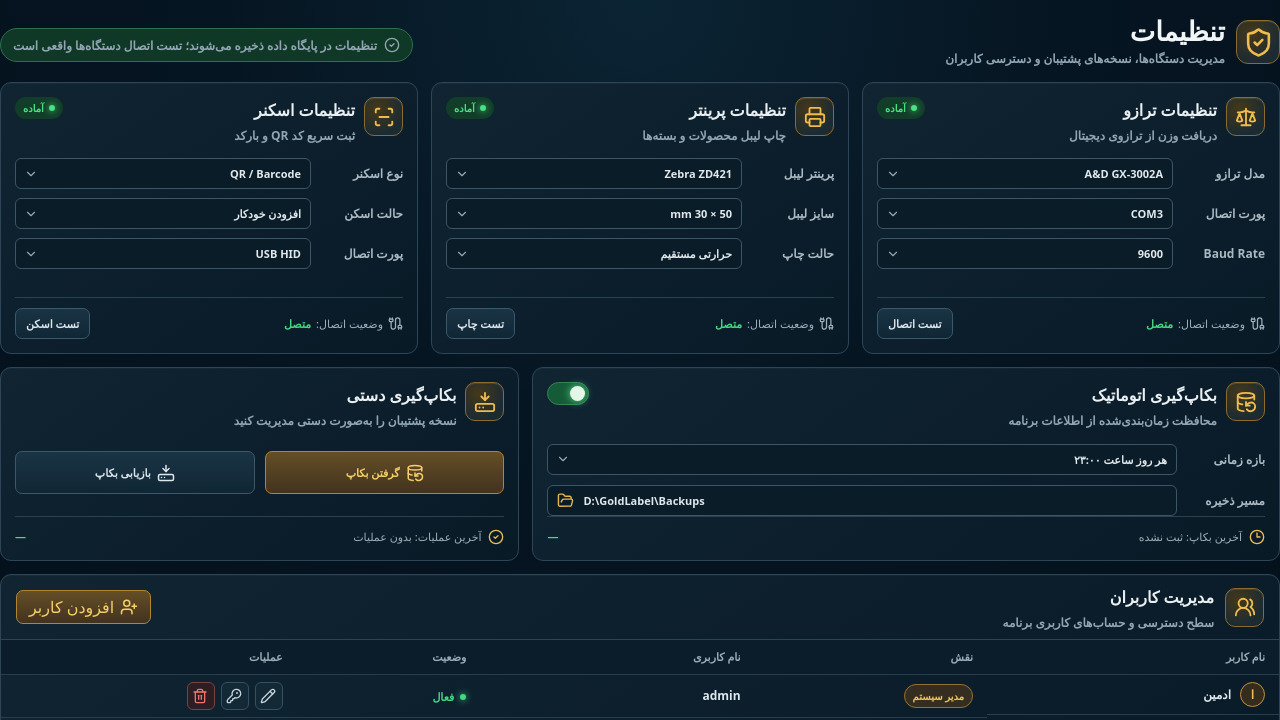
Test case: settings user management persistence › rejects a duplicate username taken by another user
Expected: the text "ادمین" is shown, [1203, 686, 1231, 702]
Click the button "افزودن کاربر".
click(84, 607)  # box [16, 590, 151, 624]
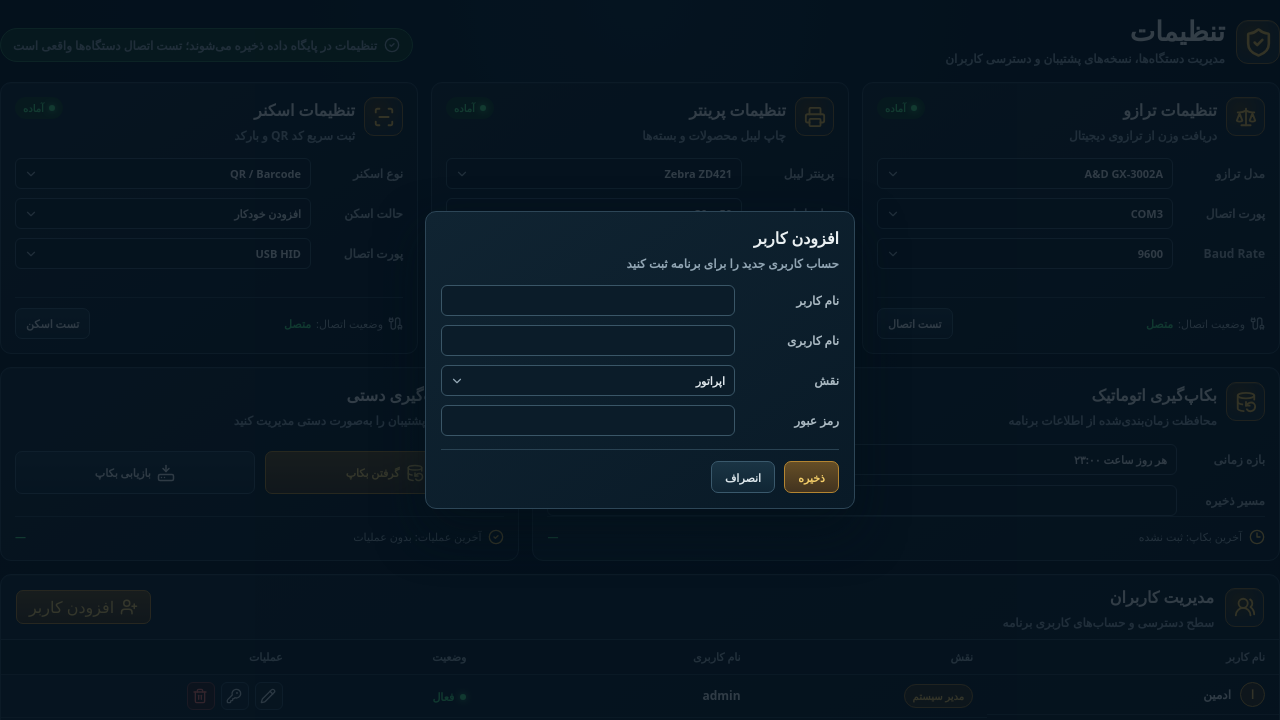
Type "کاربر تکراری" into the field labelled "نام کاربر".
click(588, 300); type("کاربر تکراری")  # box [441, 285, 735, 316]
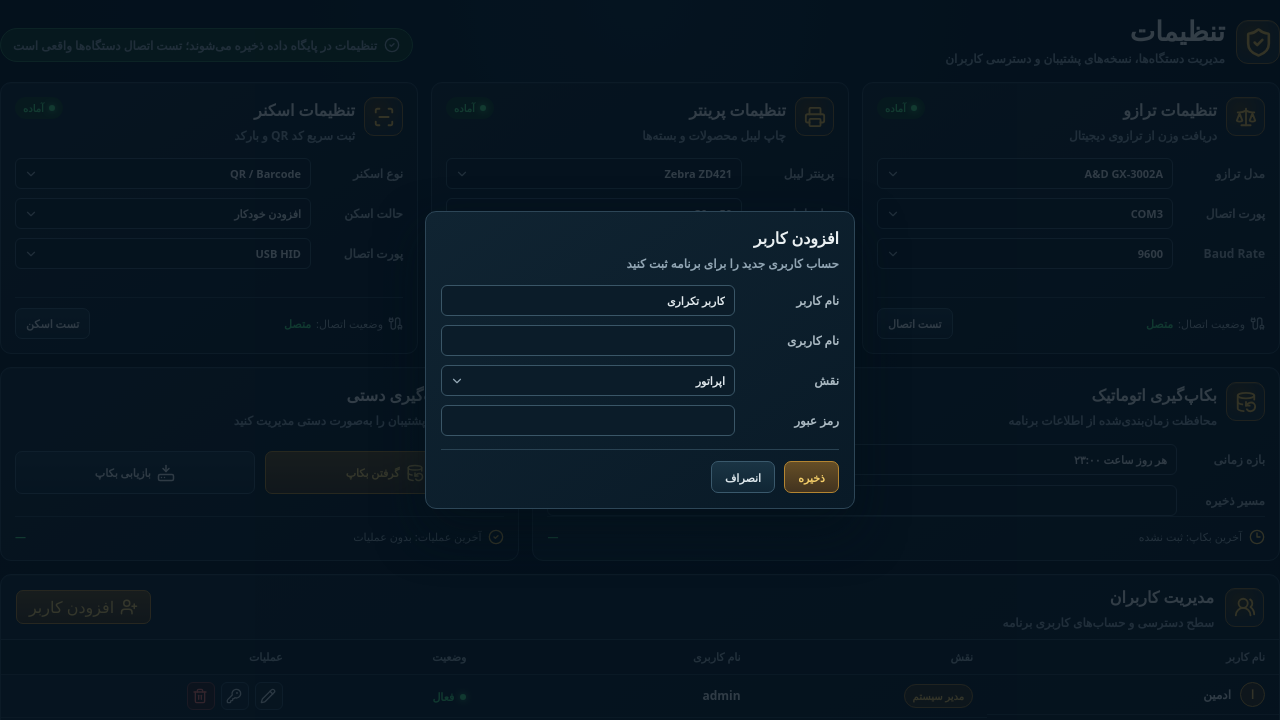
Type "admin" into the field labelled "نام کاربری".
click(588, 340); type("admin")  # box [441, 325, 735, 356]
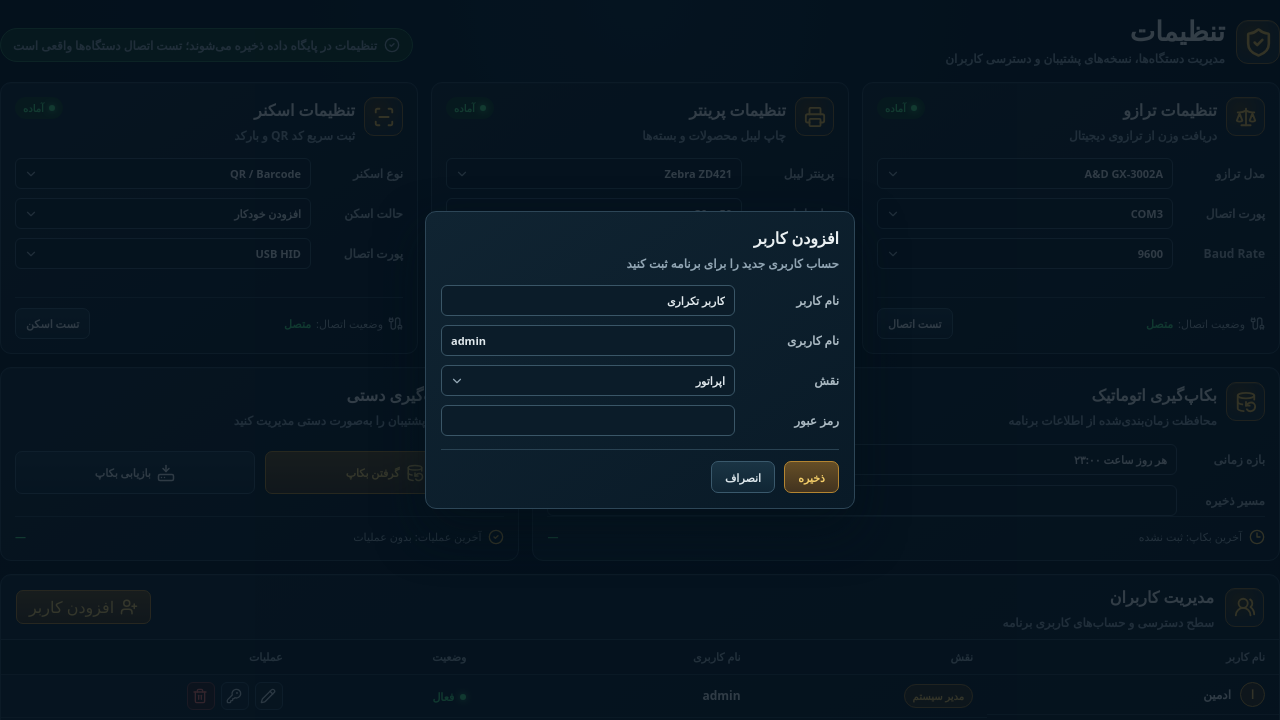
Type "GoldLabel1404" into the password field labelled "رمز عبور".
click(588, 420); type("GoldLabel1404")  # box [441, 405, 735, 436]
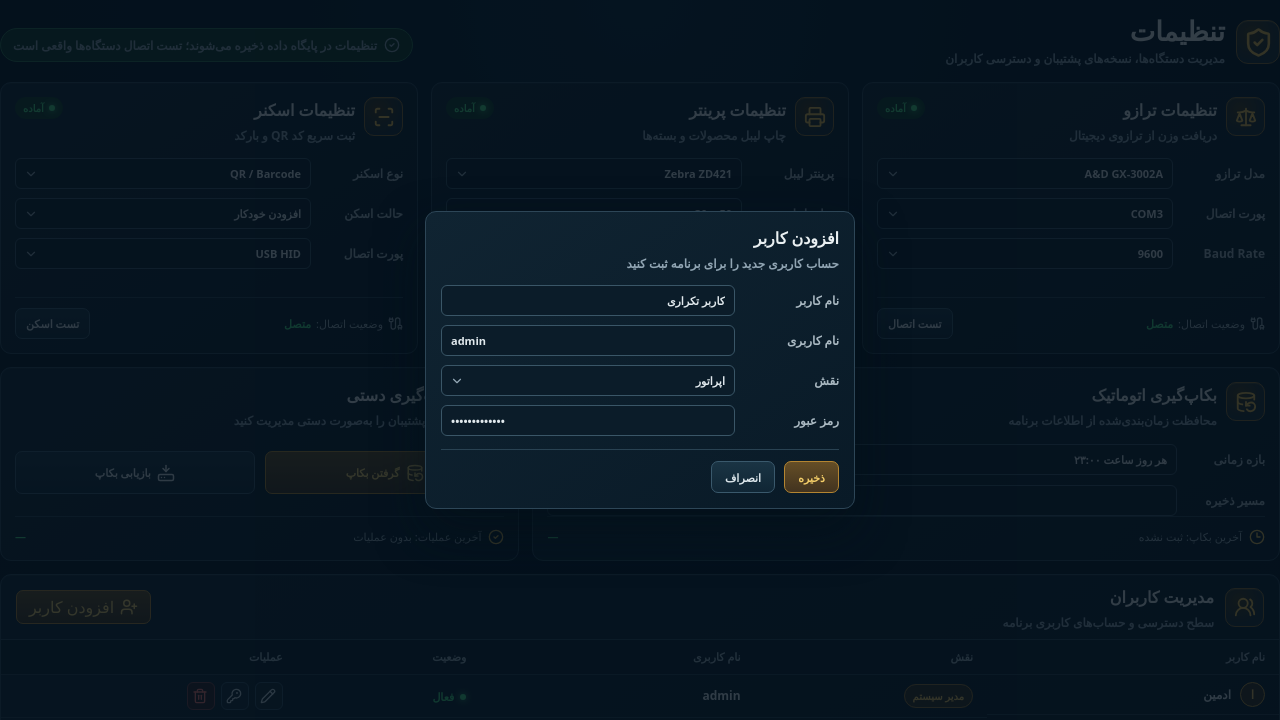
Click the button "ذخیره".
click(812, 477)  # box [784, 461, 839, 493]
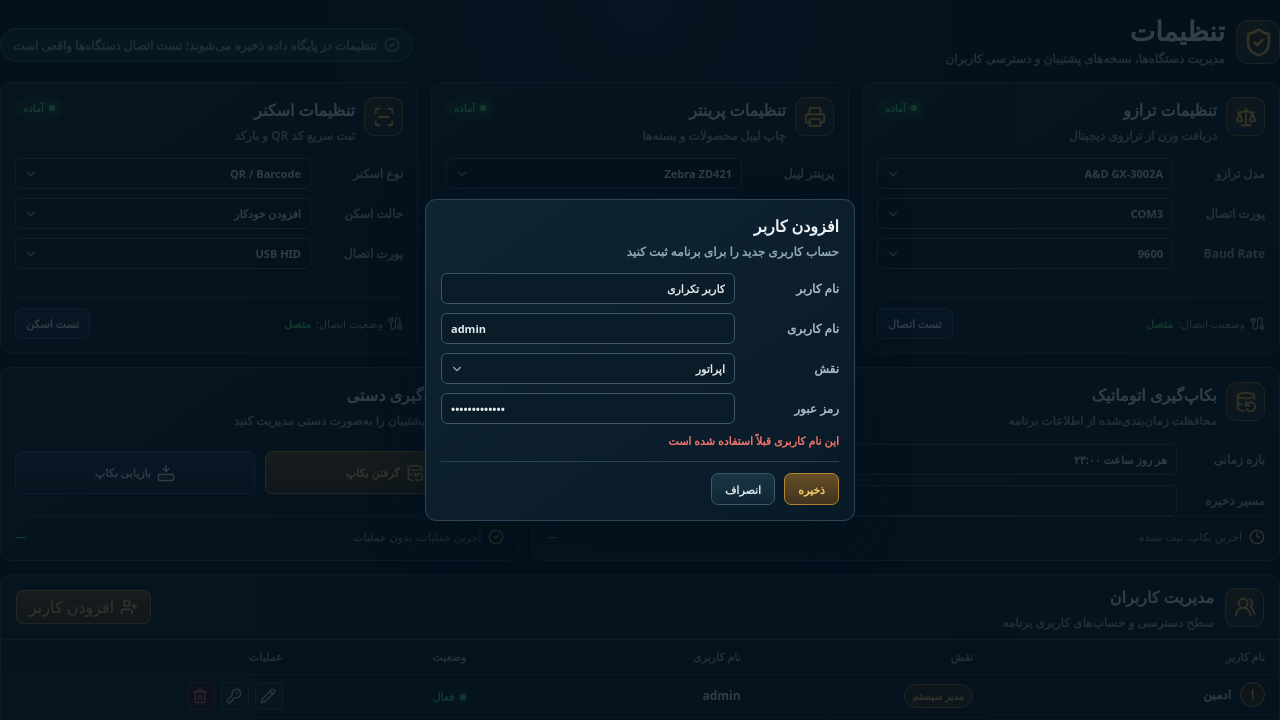
Expected: the message shows "قبلاً استفاده شده است", [668, 433, 839, 448]
